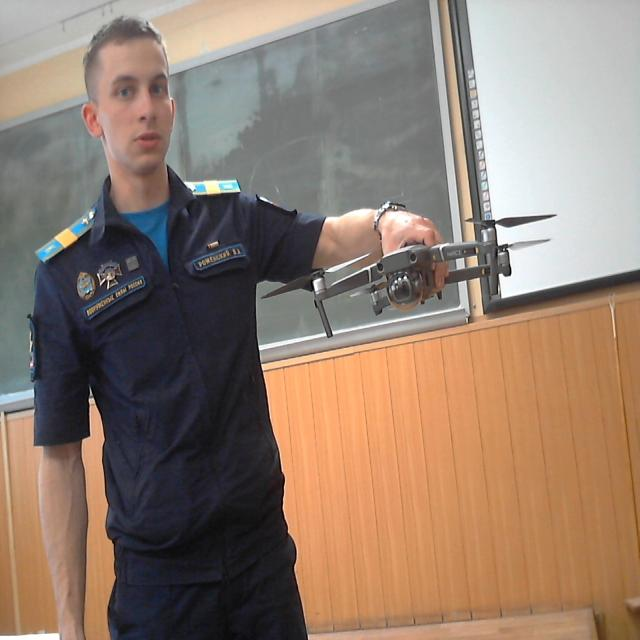drone: (243, 201, 561, 334)
